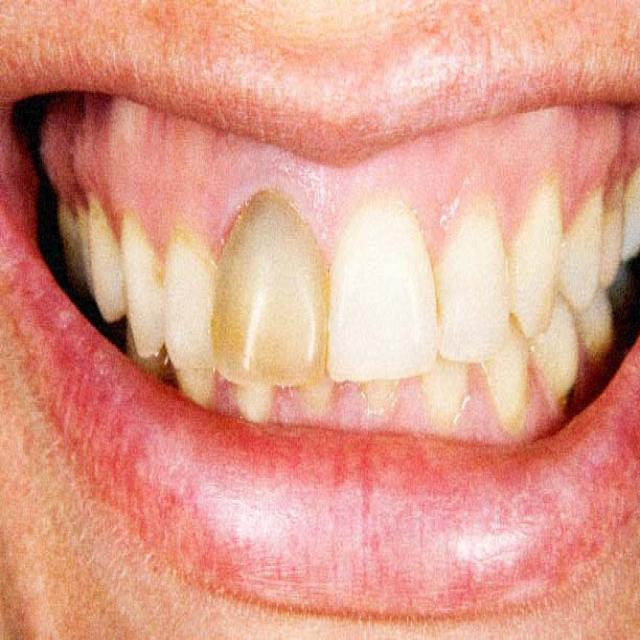caries: (548, 368, 586, 425), (77, 178, 113, 237)
